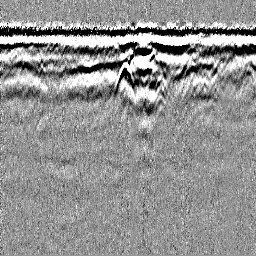cavity: (113, 61, 134, 94)
